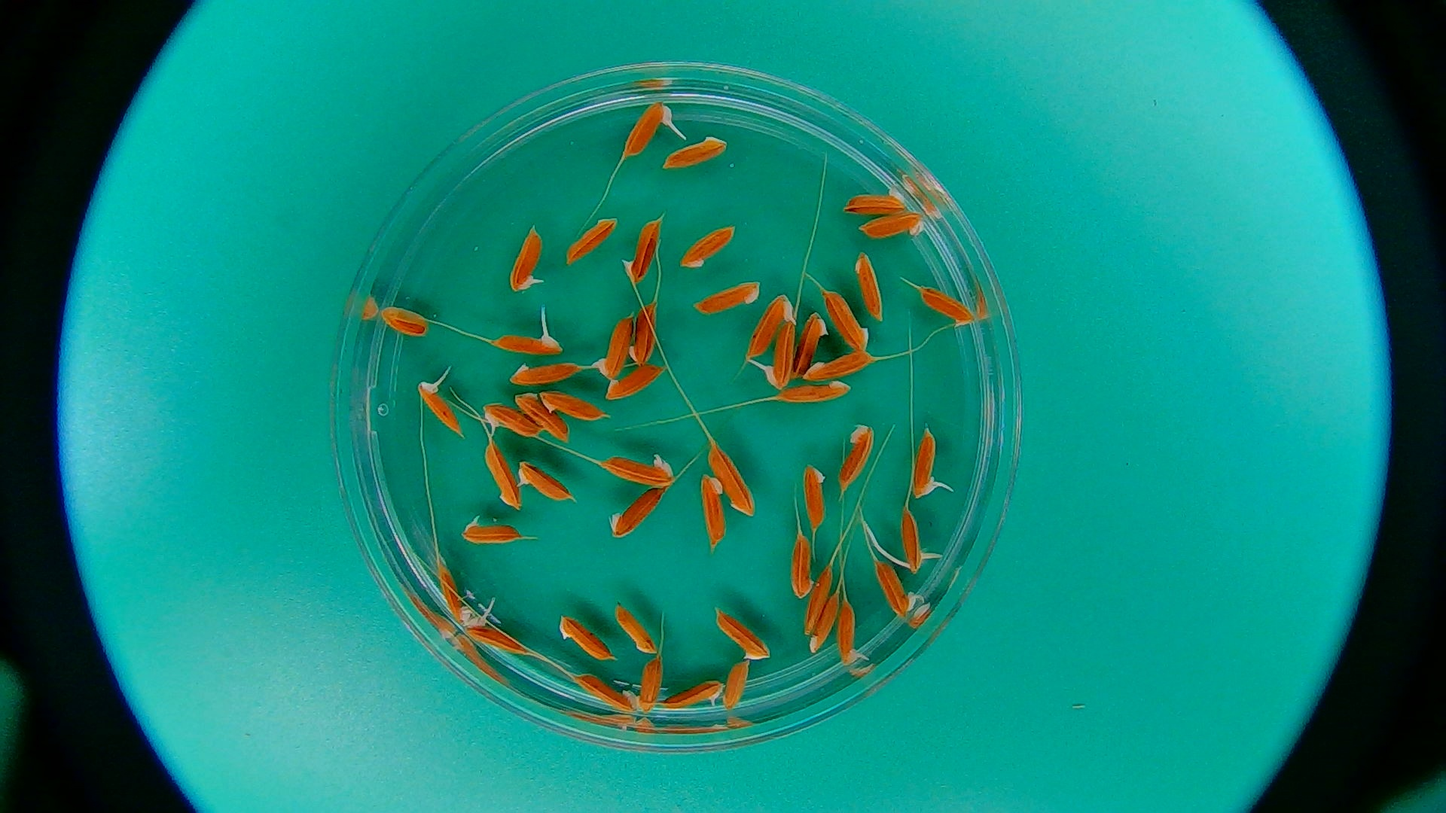no: (706, 439, 755, 518), (714, 608, 772, 660), (788, 309, 828, 383), (609, 488, 665, 537), (515, 458, 572, 505), (557, 613, 612, 661), (566, 217, 619, 266), (514, 391, 568, 439), (677, 225, 737, 268), (436, 558, 475, 624), (483, 440, 520, 509), (663, 134, 731, 171), (693, 278, 761, 315), (837, 181, 911, 215), (572, 672, 636, 710), (607, 360, 663, 403), (828, 290, 869, 348), (838, 425, 874, 491), (920, 285, 975, 327), (614, 602, 657, 655), (855, 251, 886, 321), (629, 299, 659, 367), (852, 211, 924, 239), (700, 473, 725, 552), (627, 221, 658, 282), (634, 656, 664, 719), (663, 680, 723, 711), (541, 391, 602, 421), (804, 355, 877, 380), (509, 362, 581, 385), (380, 304, 428, 338), (804, 464, 828, 531), (811, 593, 837, 654), (779, 381, 853, 401), (790, 534, 813, 598), (722, 661, 749, 712), (807, 567, 826, 636)
yes: (587, 314, 635, 380), (461, 617, 525, 659), (415, 380, 462, 437), (746, 297, 789, 358), (624, 105, 673, 157), (506, 225, 545, 289), (602, 455, 676, 488), (874, 561, 915, 615), (490, 328, 563, 355), (898, 512, 928, 576), (764, 323, 794, 385), (483, 403, 537, 437), (914, 430, 939, 502), (459, 518, 521, 545), (837, 602, 862, 668)
